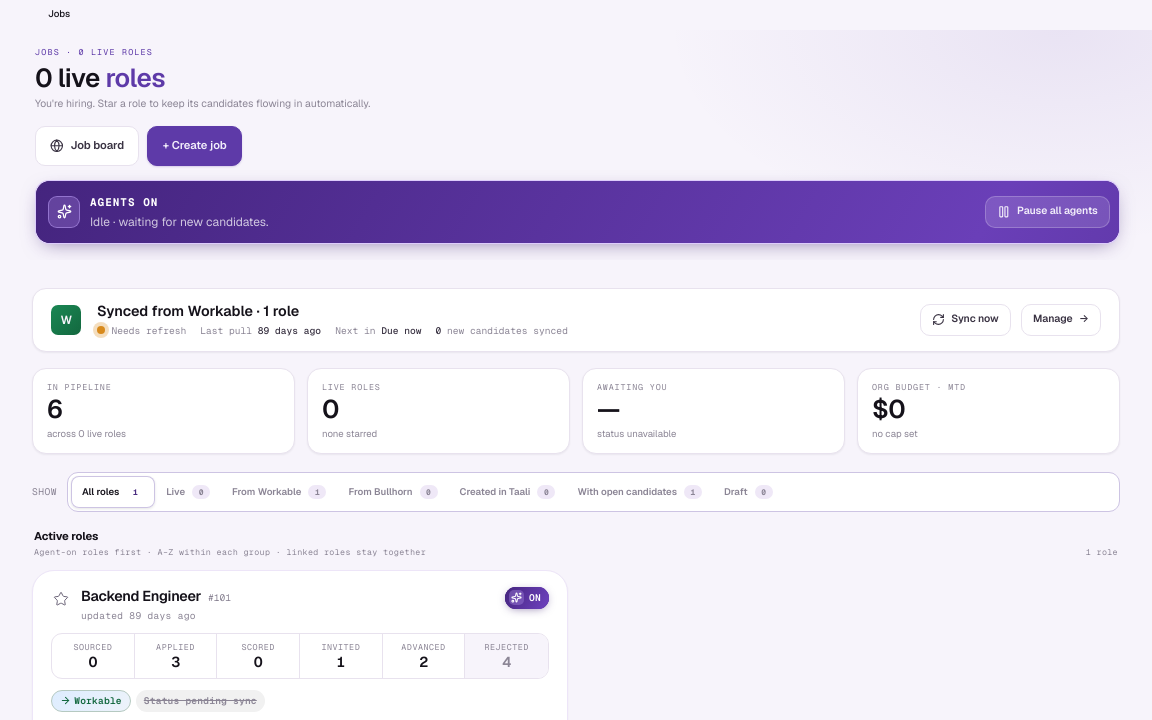
Scenario: JobsPage Workable sync states › accepts a pause click when the cached status predates the control version
This screenshot has width=1152, height=720.
Click the button "Pause all agents".
click(1047, 212)  # box [985, 196, 1110, 228]
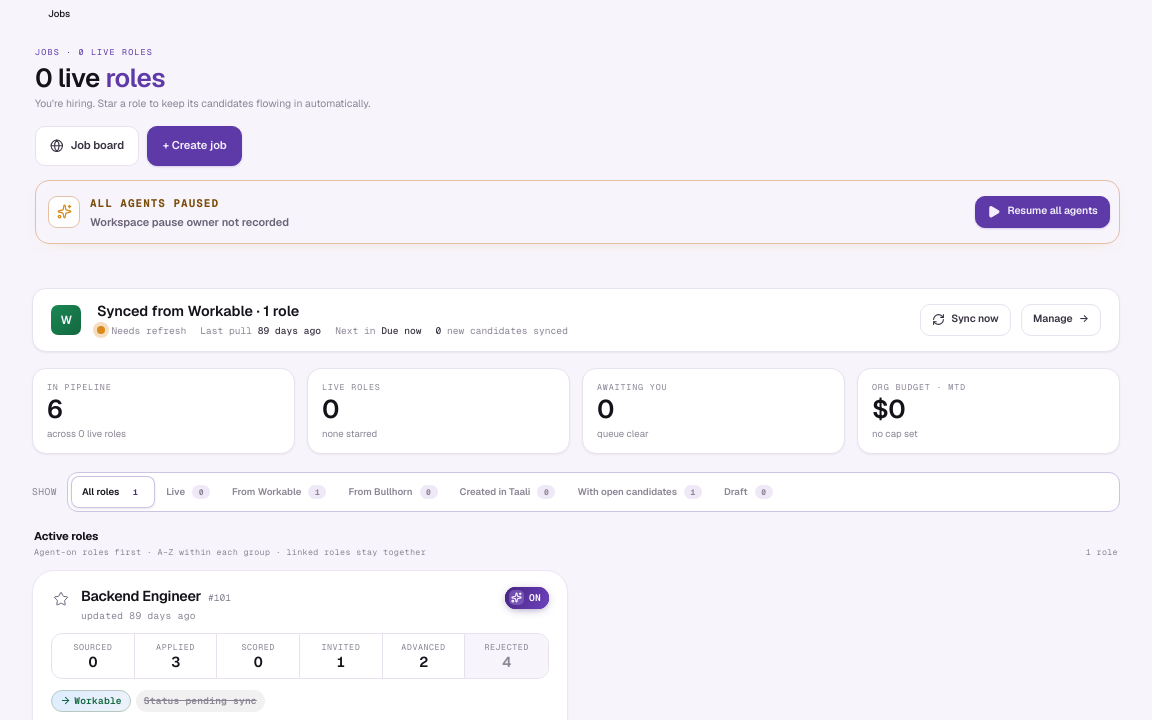
Now the button "Resume all agents" is shown, box [975, 196, 1110, 228]
